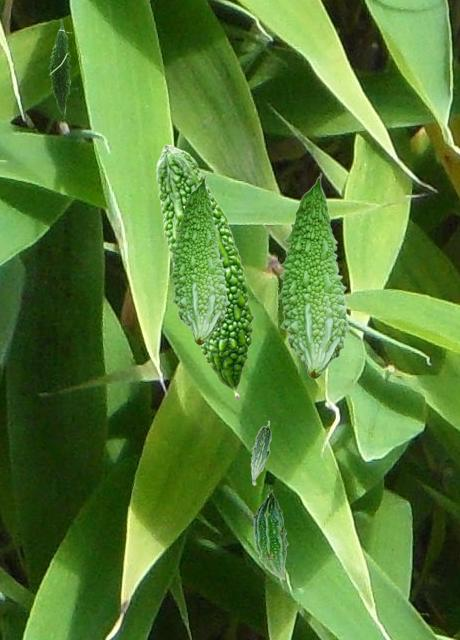ampalaya: (155, 143, 256, 400), (276, 172, 351, 379), (168, 174, 230, 345), (252, 489, 288, 580), (47, 18, 74, 118), (250, 420, 271, 486)
